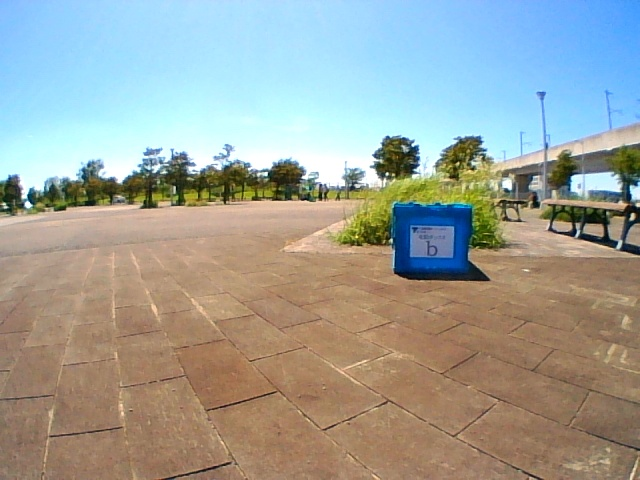blue_box: (395, 205, 465, 270)
tag_b: (411, 227, 452, 257)
